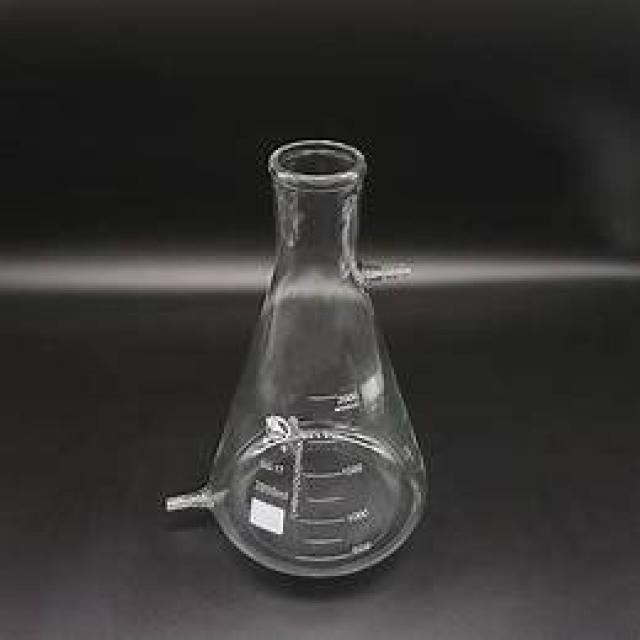Titrarion: (153, 124, 434, 581)
